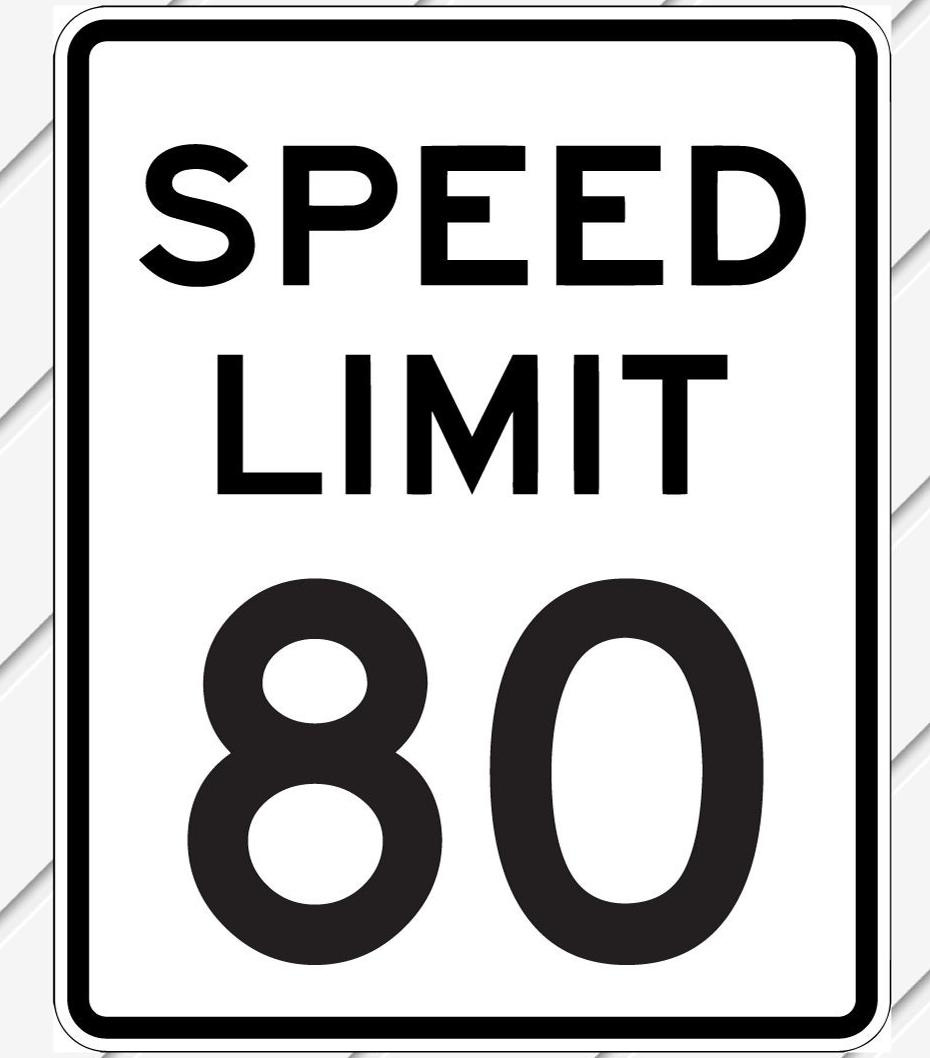Speed Limit -80-: (0, 1, 929, 1057)
